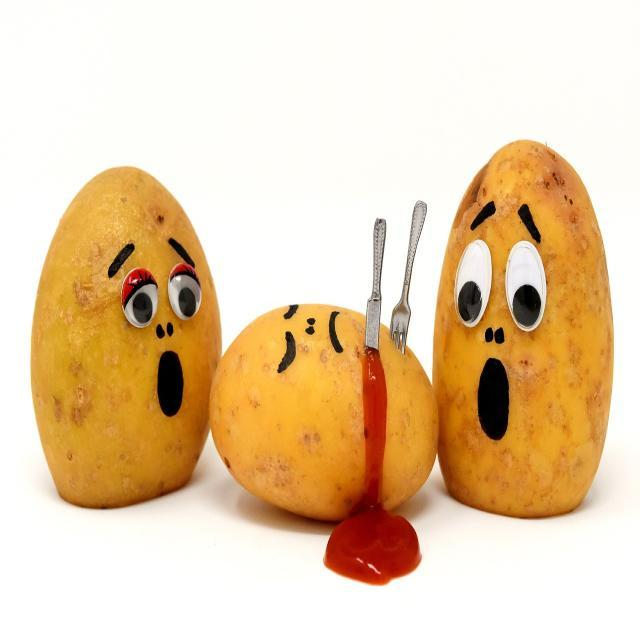Knife: (365, 219, 386, 349)
